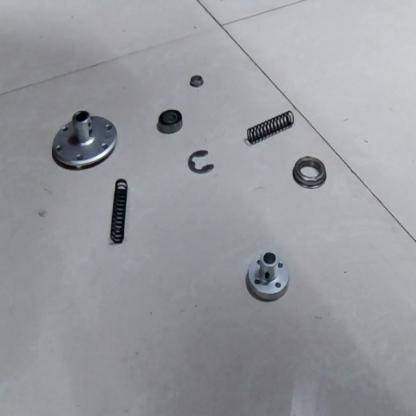FOD: (50, 105, 118, 172), (245, 250, 293, 303), (242, 108, 296, 149), (109, 175, 130, 248), (291, 154, 330, 188), (155, 106, 186, 138), (186, 149, 214, 177), (186, 72, 206, 90)
